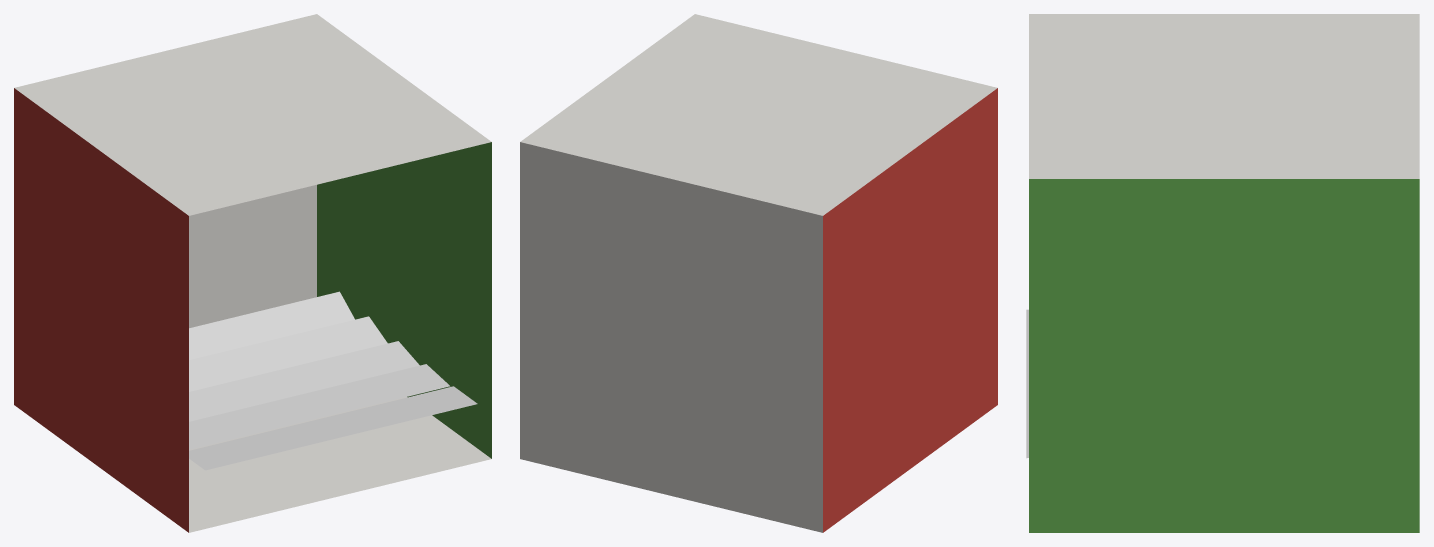
Rendered from cornell-box-roughness.dae.
3 renders of one model, left to right at view 1: azimuth 30°, elevation 25°; view 2: azimuth 150°, elevation 25°; view 3: azimuth 270°, elevation 25°, orthographic. The views are drawn at different scales.
Visible parts, largest first — view 1: walls, mirror-roughness-0_1, mirror-roughness-0_2, mirror-roughness-0_0, mirror-roughness-0_3, mirror-roughness-0_4; view 2: walls; view 3: walls.
Boxes of the visible parts, x1,y1,x2,y2 form: walls: (14, 14, 491, 532); mirror-roughness-0_1: (189, 364, 450, 449); mirror-roughness-0_2: (189, 341, 419, 421); mirror-roughness-0_0: (189, 386, 477, 470); mirror-roughness-0_3: (189, 316, 387, 391); mirror-roughness-0_4: (189, 291, 354, 359); walls: (520, 14, 997, 532); walls: (1029, 14, 1419, 532).
Bounding box in the file's own units: 2 × 2.01 × 2.
